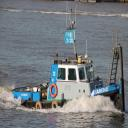tugboat: (10, 21, 127, 117)
